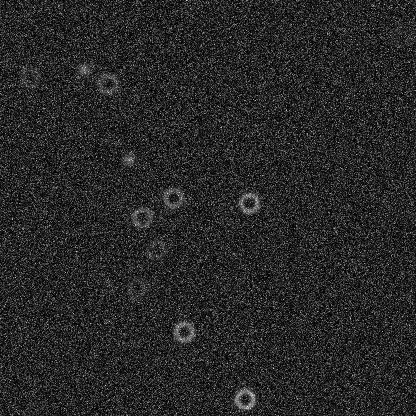Ring: (95, 71, 119, 95), (144, 237, 168, 261), (237, 190, 261, 214), (232, 387, 256, 411), (124, 276, 148, 300), (171, 319, 195, 343), (129, 205, 153, 229), (387, 25, 411, 49), (161, 185, 185, 209), (18, 65, 42, 89)
Spot: (76, 61, 92, 77), (120, 151, 136, 167), (99, 276, 115, 292)
